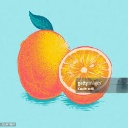orange: (56, 42, 113, 104), (17, 28, 58, 100)
